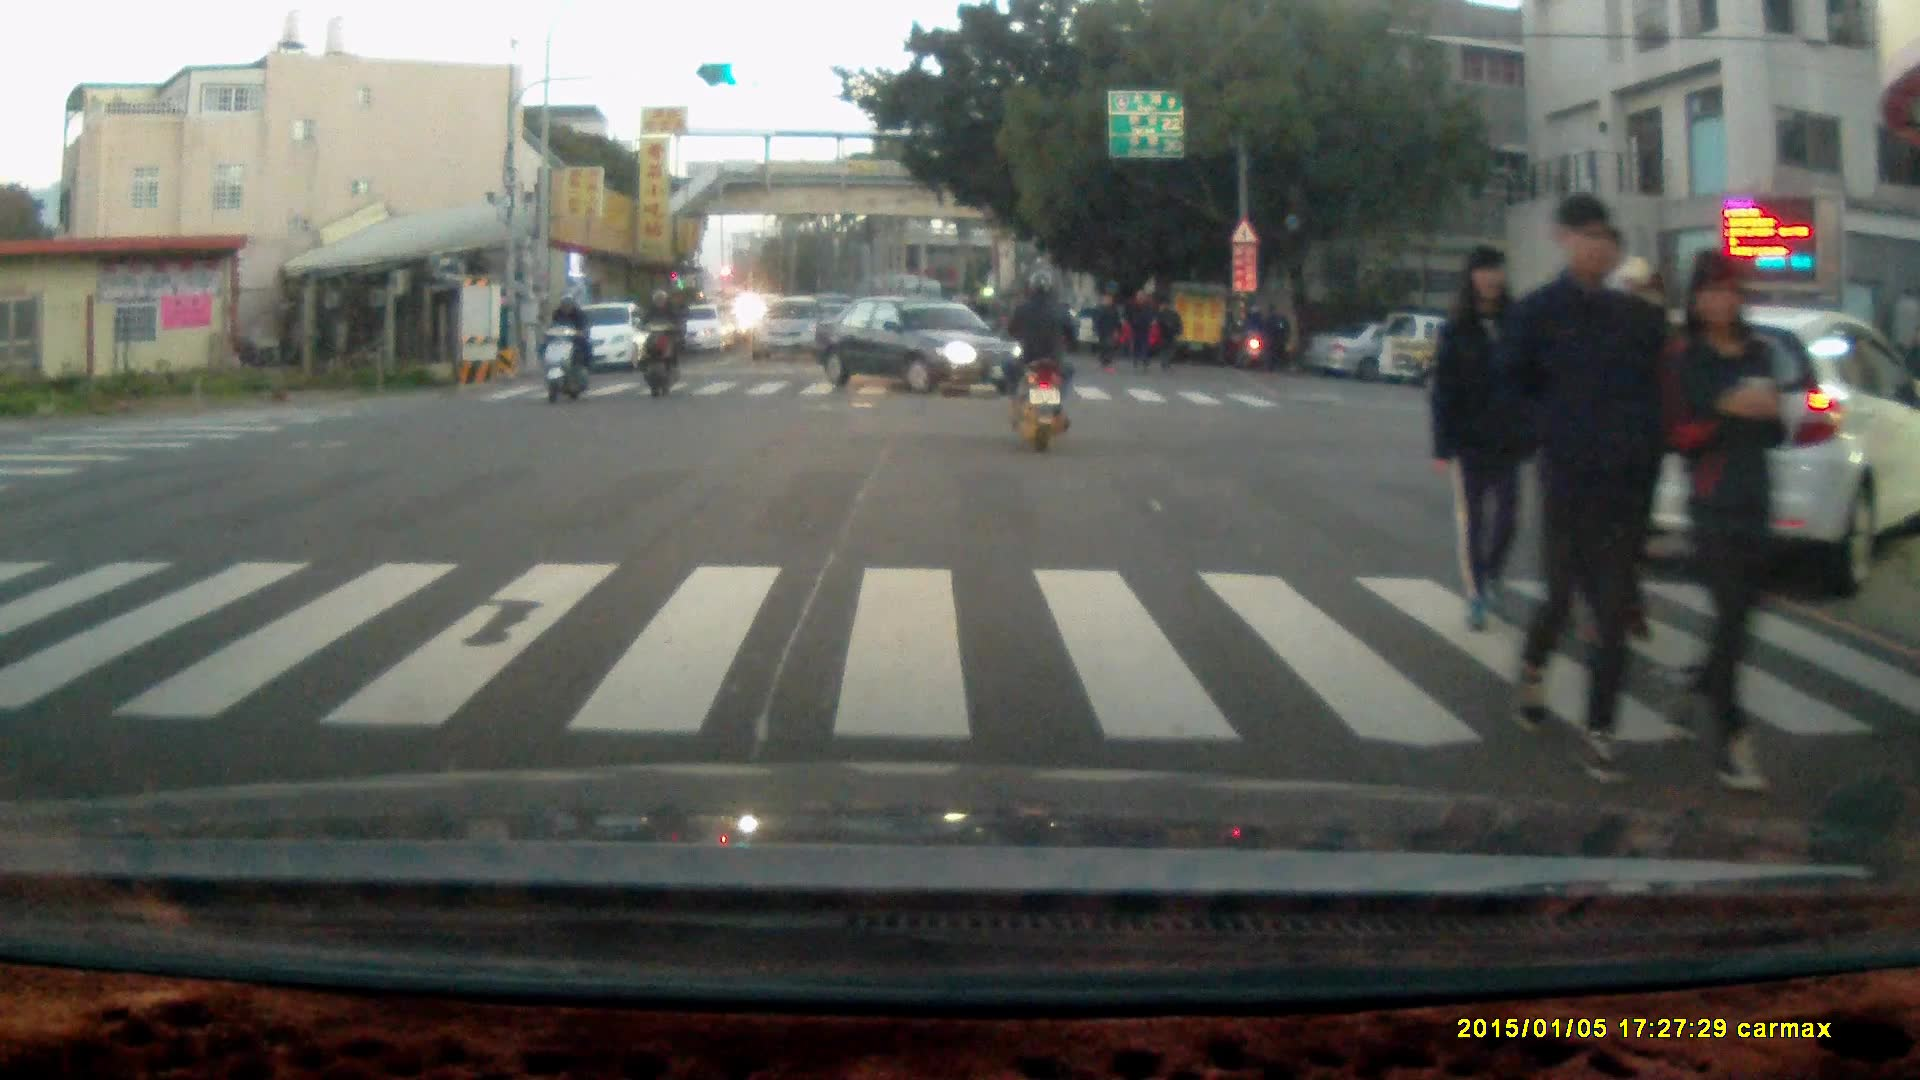pedestrian: (1492, 185, 1669, 789), (1658, 246, 1792, 790), (1428, 241, 1553, 638), (1123, 284, 1154, 376), (1149, 293, 1181, 377), (1091, 290, 1121, 372), (1257, 296, 1288, 373)
rider: (1005, 265, 1079, 451), (538, 282, 593, 402), (631, 282, 686, 397), (1230, 302, 1269, 367)
vehicle: (1599, 312, 1920, 606), (806, 289, 1042, 395), (1308, 313, 1476, 384), (554, 301, 658, 372), (748, 296, 832, 364)
